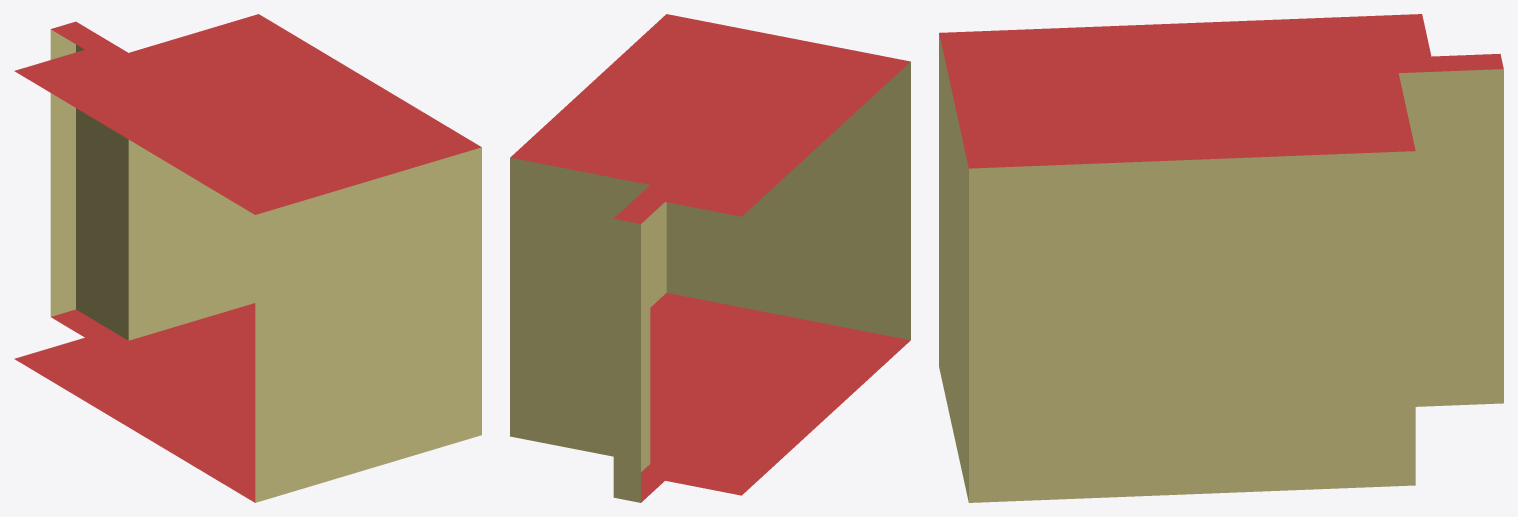
The picture shows the model from 3 angles, left to right: view 1: azimuth 30°, elevation 25°; view 2: azimuth 150°, elevation 25°; view 3: azimuth 270°, elevation 25°; orthographic projection. The views are drawn at different scales.
Size of the model in its own units: 7.56 by 11.67 by 7.62.
